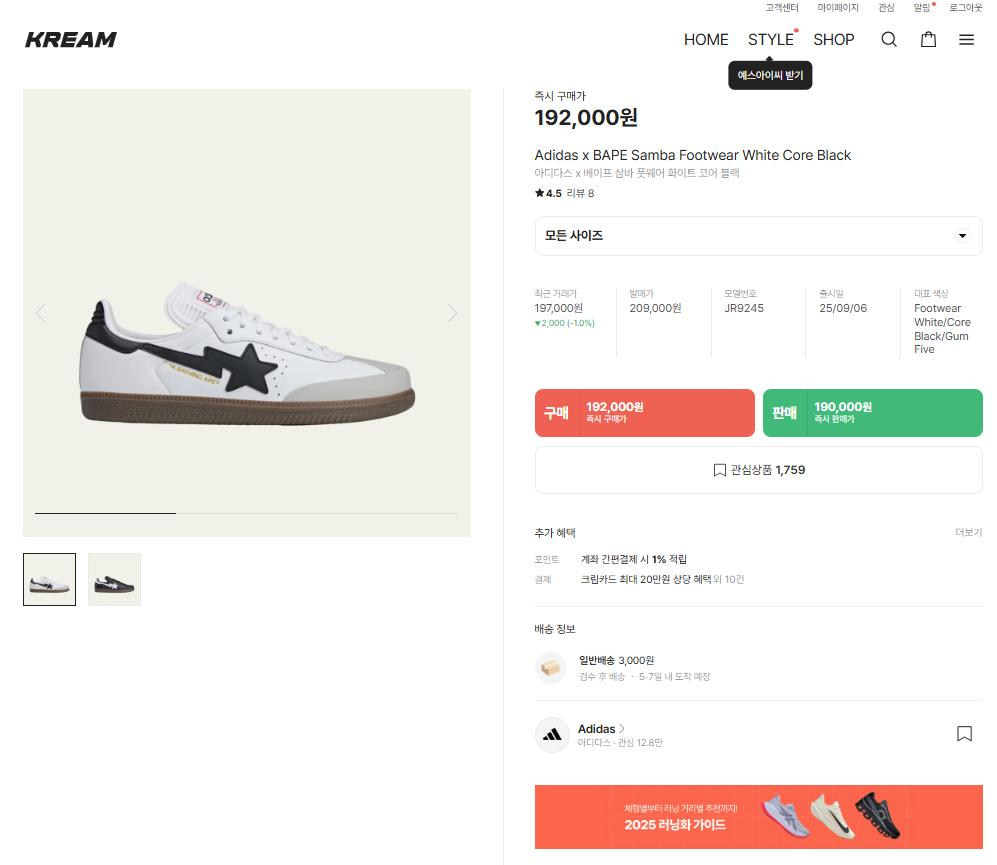button: (538, 444, 981, 489), (532, 388, 758, 435), (766, 389, 988, 435), (88, 551, 145, 609), (18, 551, 79, 604), (806, 22, 863, 55), (570, 714, 636, 740), (739, 24, 805, 49), (936, 718, 978, 752), (672, 26, 728, 51), (815, 0, 866, 20), (944, 520, 993, 539), (951, 0, 990, 18), (909, 28, 941, 49), (952, 34, 985, 53), (760, 0, 805, 9), (879, 0, 903, 15), (911, 0, 939, 12), (875, 30, 896, 45)
checkbox: (536, 222, 981, 255)
popup: (531, 780, 985, 854), (724, 60, 814, 92)
